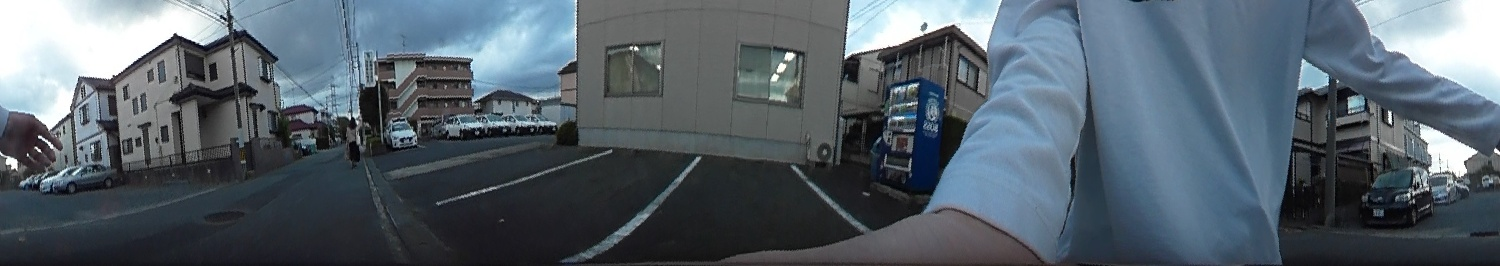difficult_person: (344, 115, 362, 166)
